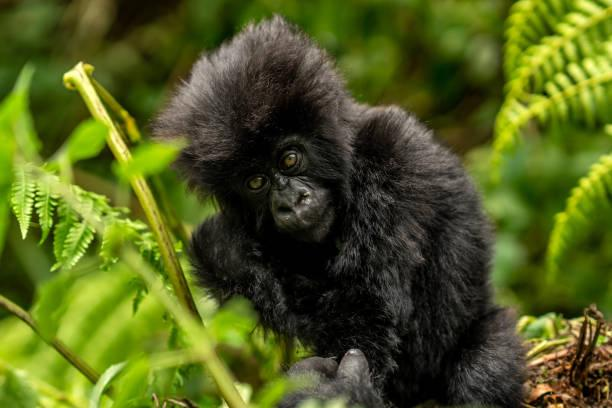goriile_montagne: (151, 22, 521, 408)
